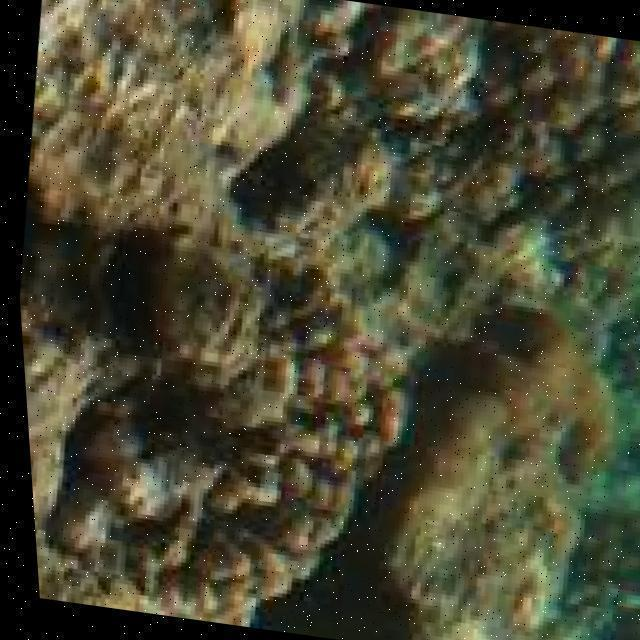Dead Coral: (0, 225, 416, 640)
